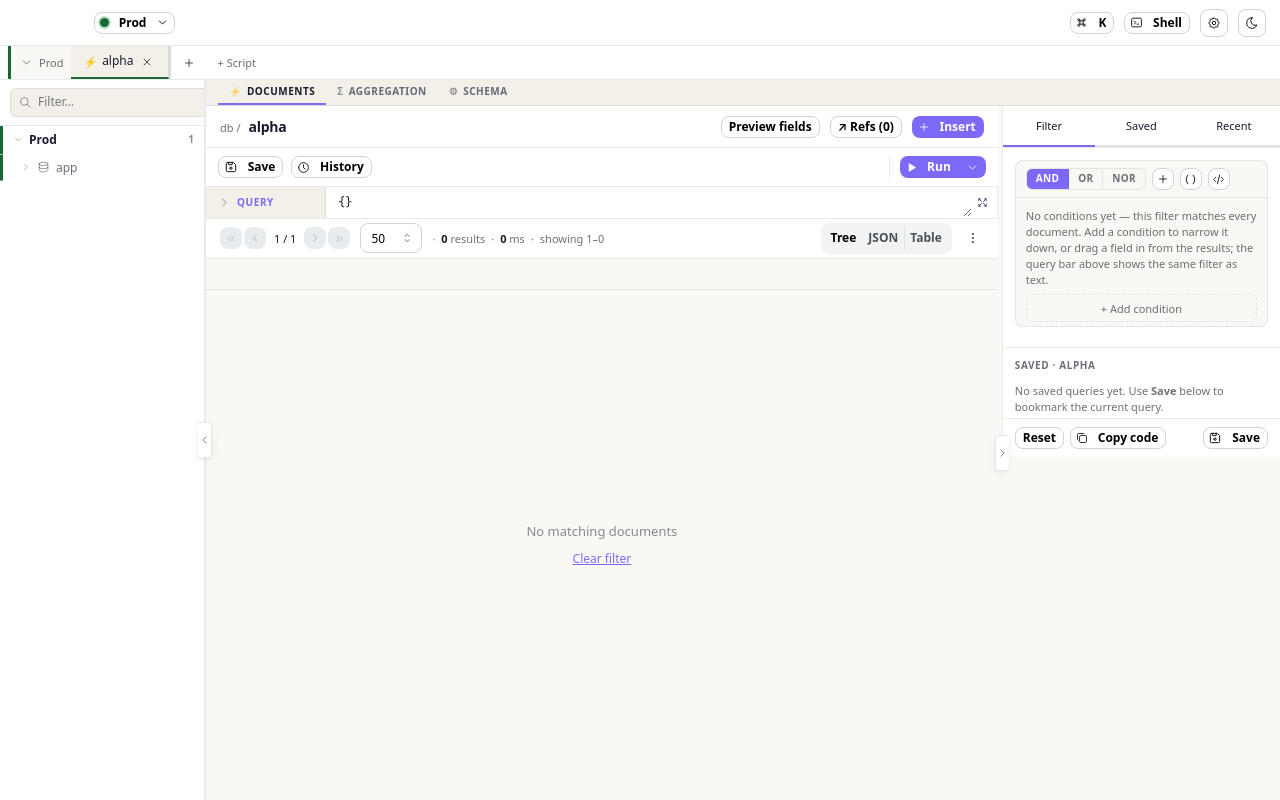
Scenario: NewTabPicker — dialog shell (X15 T5) › puts role="dialog" on the panel with an accessible name, not on the backdrop
Click the button named "New collection tab". click: [190, 62]
box: [176, 48, 204, 76]
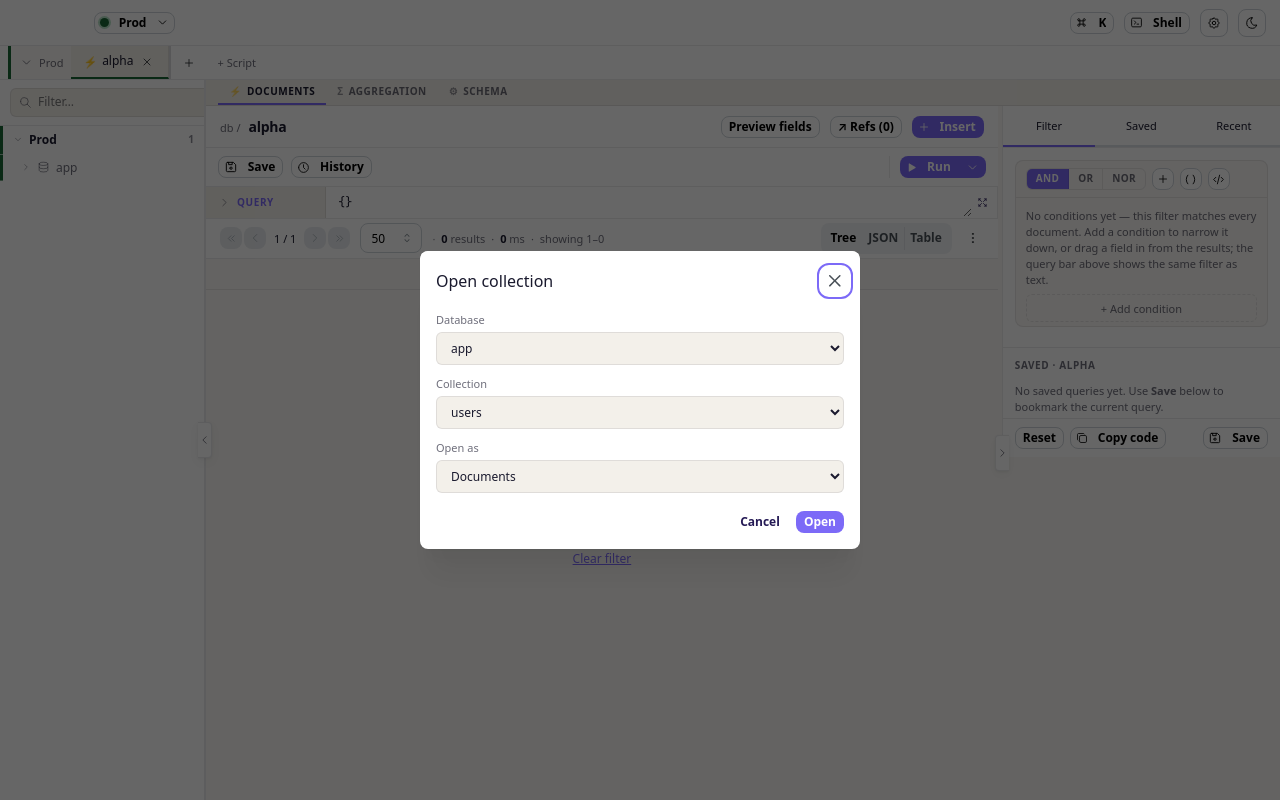
Now the dropdown labelled "Database" is shown, box [436, 332, 844, 365]
Now the button named "Close" is shown, box [821, 267, 849, 295]
